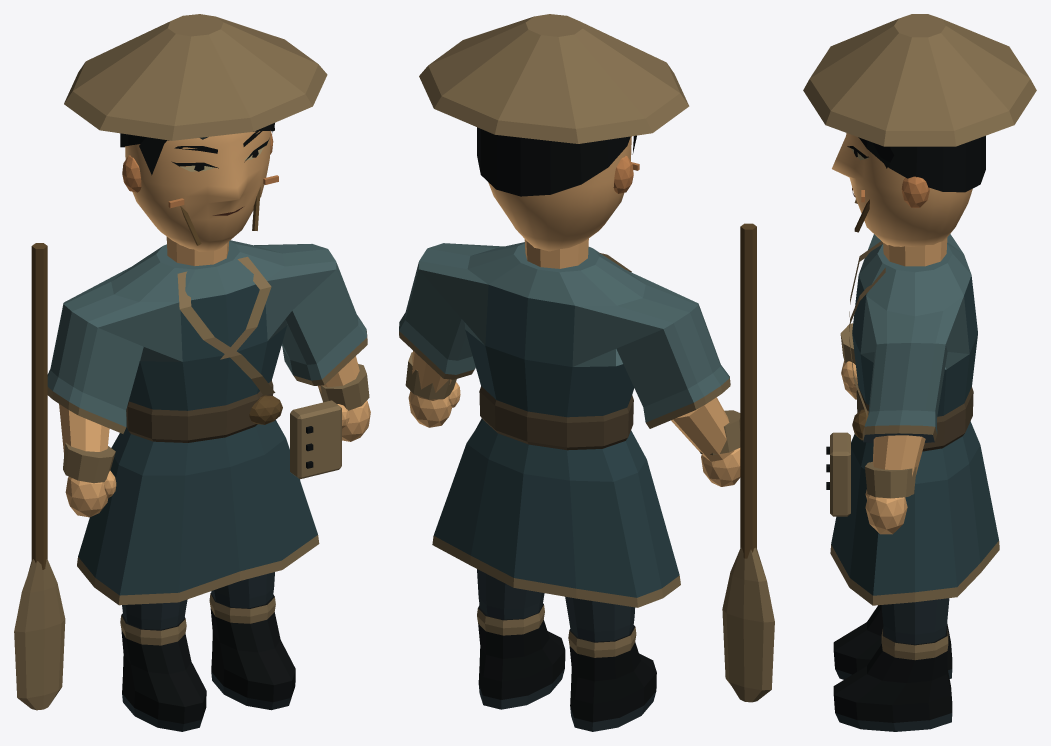
Rendered from ShenYan_Parts.fbx.
3 renders of one model, left to right at view 1: azimuth 30°, elevation 25°; view 2: azimuth 150°, elevation 25°; view 3: azimuth 270°, elevation 25°, orthographic. The views are drawn at different scales.
Visible parts, largest first — view 1: Short robe, Bamboo rain hat, Angular oversized head, Cloth boot, Cloth boot.001, Oar blade, Oar handle, Boat ledger, Forearm, Trouser.001, Wrist binding, Trouser (+5 smaller); view 2: Short robe, Bamboo rain hat, Cloth boot, Cloth boot.001, Swept hair cap, Oar blade, Angular oversized head, Oar handle, Trouser, Trouser.001, Forearm, Neck (+5 smaller); view 3: Short robe, Bamboo rain hat, Cloth boot.001, Angular oversized head, Swept hair cap, Trouser.001, Cloth boot, Boat ledger, Forearm.001, Wrist binding.001, Mitten hand.001, Neck (+2 smaller).
Part boxes in pixels (x1,y1,x2,y2): Short robe: (47, 240, 367, 605); Bamboo rain hat: (64, 14, 327, 140); Angular oversized head: (125, 130, 270, 251); Cloth boot: (120, 613, 206, 731); Cloth boot.001: (209, 592, 295, 710); Oar blade: (14, 559, 65, 710); Oar handle: (31, 243, 47, 569); Boat ledger: (290, 400, 341, 479); Forearm: (59, 404, 109, 455); Trouser.001: (211, 572, 274, 608); Wrist binding: (63, 443, 115, 483); Trouser: (122, 599, 187, 629); Short robe: (399, 242, 730, 607); Bamboo rain hat: (419, 14, 689, 143); Cloth boot: (568, 625, 656, 731); Cloth boot.001: (477, 603, 565, 709); Swept hair cap: (477, 127, 630, 196); Oar blade: (722, 547, 774, 702); Angular oversized head: (488, 136, 631, 251); Oar handle: (740, 223, 756, 558); Trouser: (565, 596, 635, 641); Trouser.001: (477, 569, 544, 619); Forearm: (671, 397, 734, 461); Neck: (524, 238, 588, 268); Short robe: (830, 234, 999, 605); Bamboo rain hat: (803, 14, 1036, 146); Cloth boot.001: (833, 627, 952, 731); Angular oversized head: (832, 133, 972, 246); Swept hair cap: (859, 135, 985, 192); Trouser.001: (881, 598, 949, 644); Cloth boot: (833, 605, 952, 679); Boat ledger: (830, 432, 850, 516); Forearm.001: (872, 435, 925, 496); Wrist binding.001: (865, 462, 916, 498); Mitten hand.001: (865, 494, 907, 534); Neck: (883, 238, 947, 266).
Bounding box in the file's own units: 127 × 228 × 72.
Materials: 1 (1 with a texture image).
